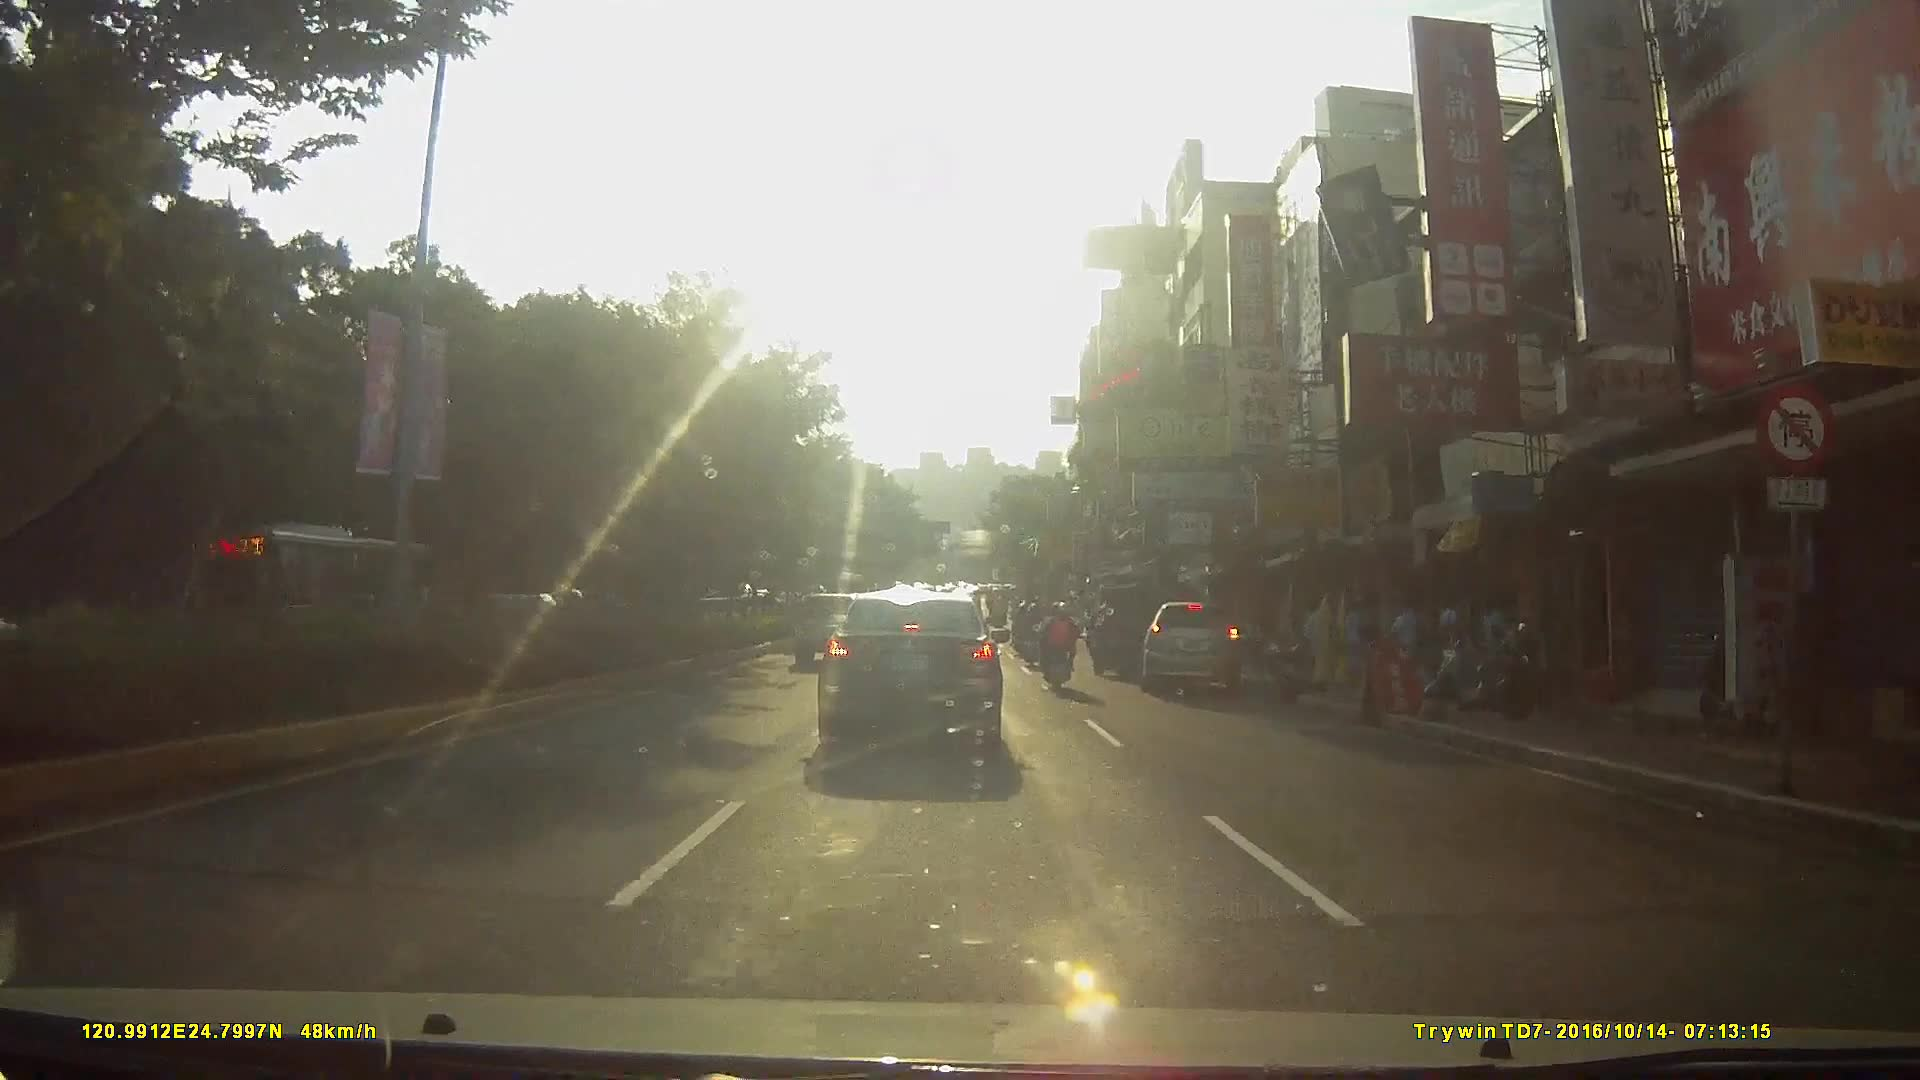pedestrian: (1391, 600, 1430, 688), (1482, 594, 1511, 683), (1439, 595, 1460, 675)
rider: (1039, 597, 1083, 694), (1020, 601, 1045, 670)
vehicle: (182, 519, 438, 668), (818, 589, 1030, 768), (1148, 600, 1259, 703), (1088, 583, 1181, 686)
